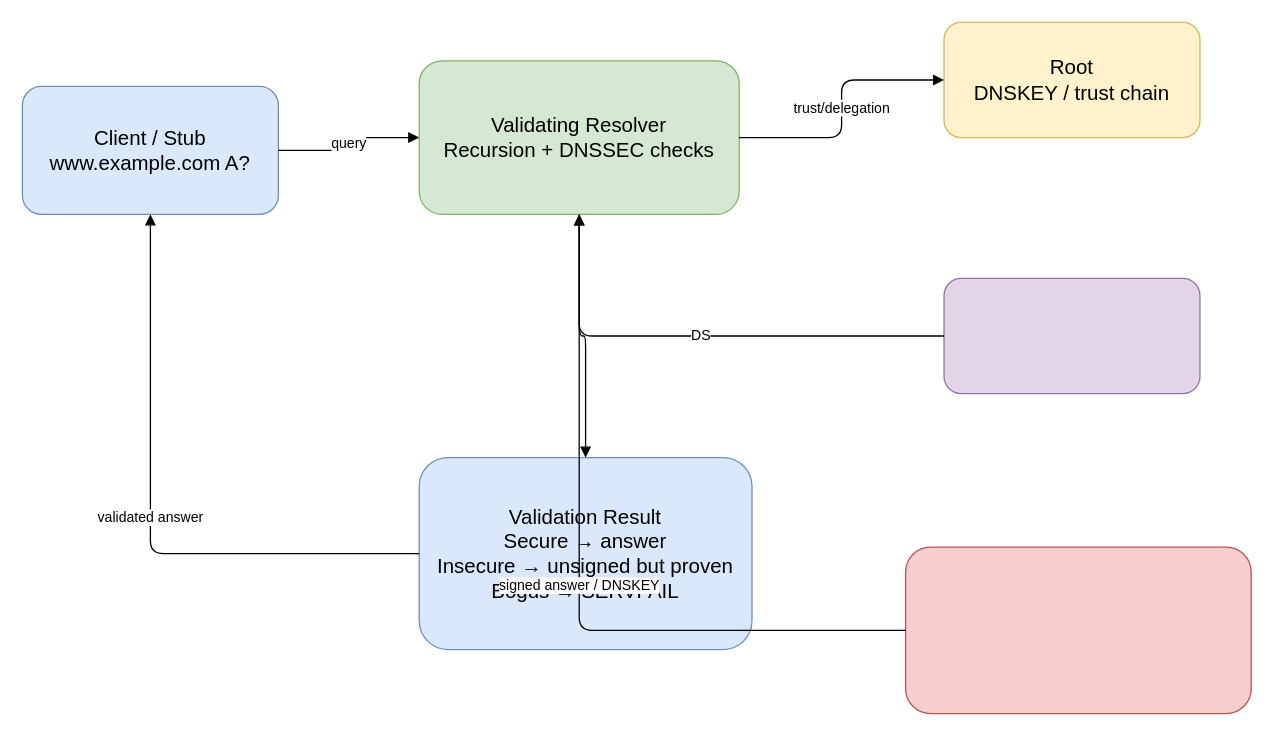
Some shapes in this 1274 by 736 pixel diagram are drawn without their labels. The box of each missing label's shape, as (x1, y1, x2, y2) in pixels:
.com Parent DS example.com: (943, 277, 1200, 394)
example.com Authoritative DNSKEY + A + RRSIG NSEC/NSEC3 for negatives: (904, 546, 1251, 714)
